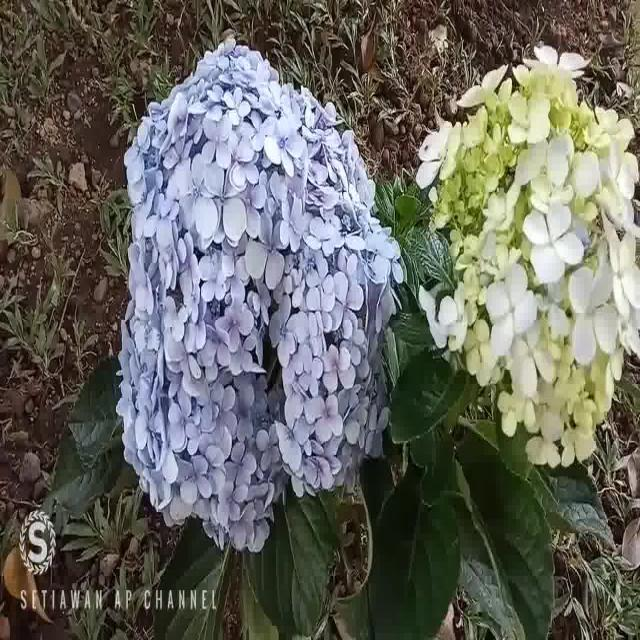Flower: (104, 32, 390, 554), (418, 49, 640, 466)
